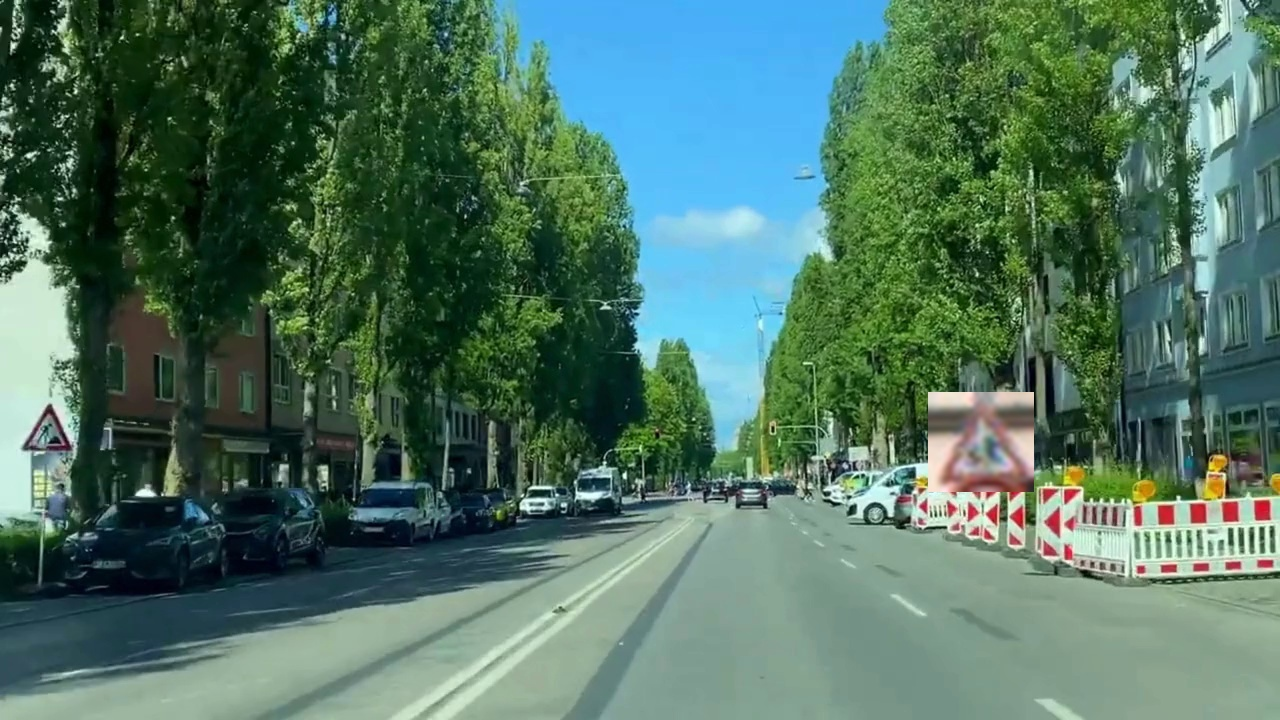Children: (928, 392, 1034, 492)
